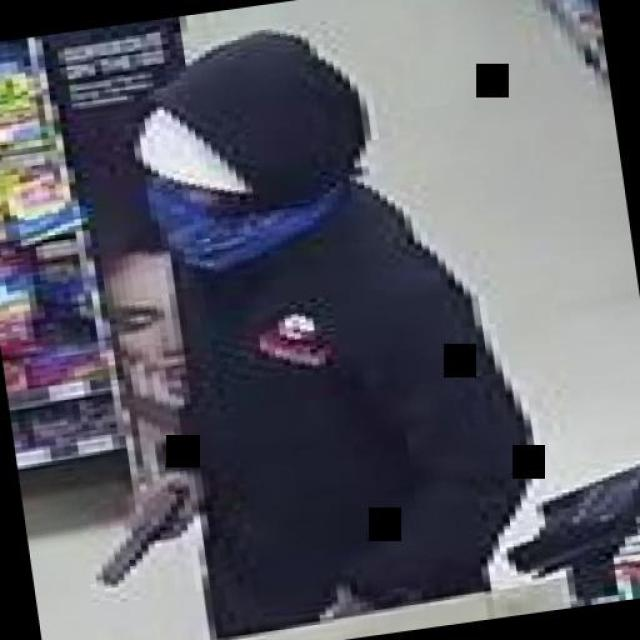gun: (70, 466, 215, 589)
